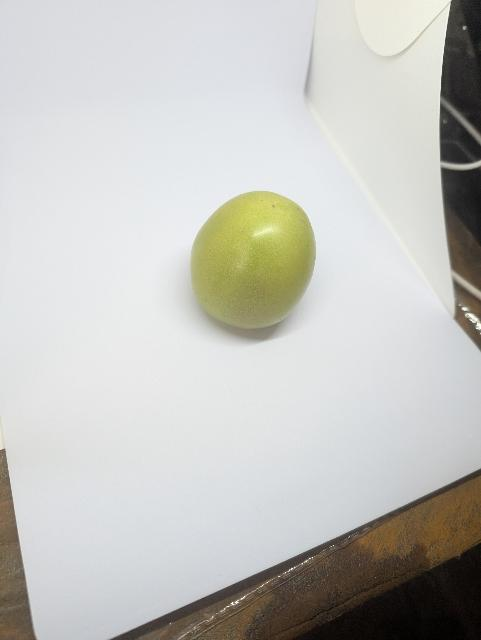green: (182, 180, 325, 340)
